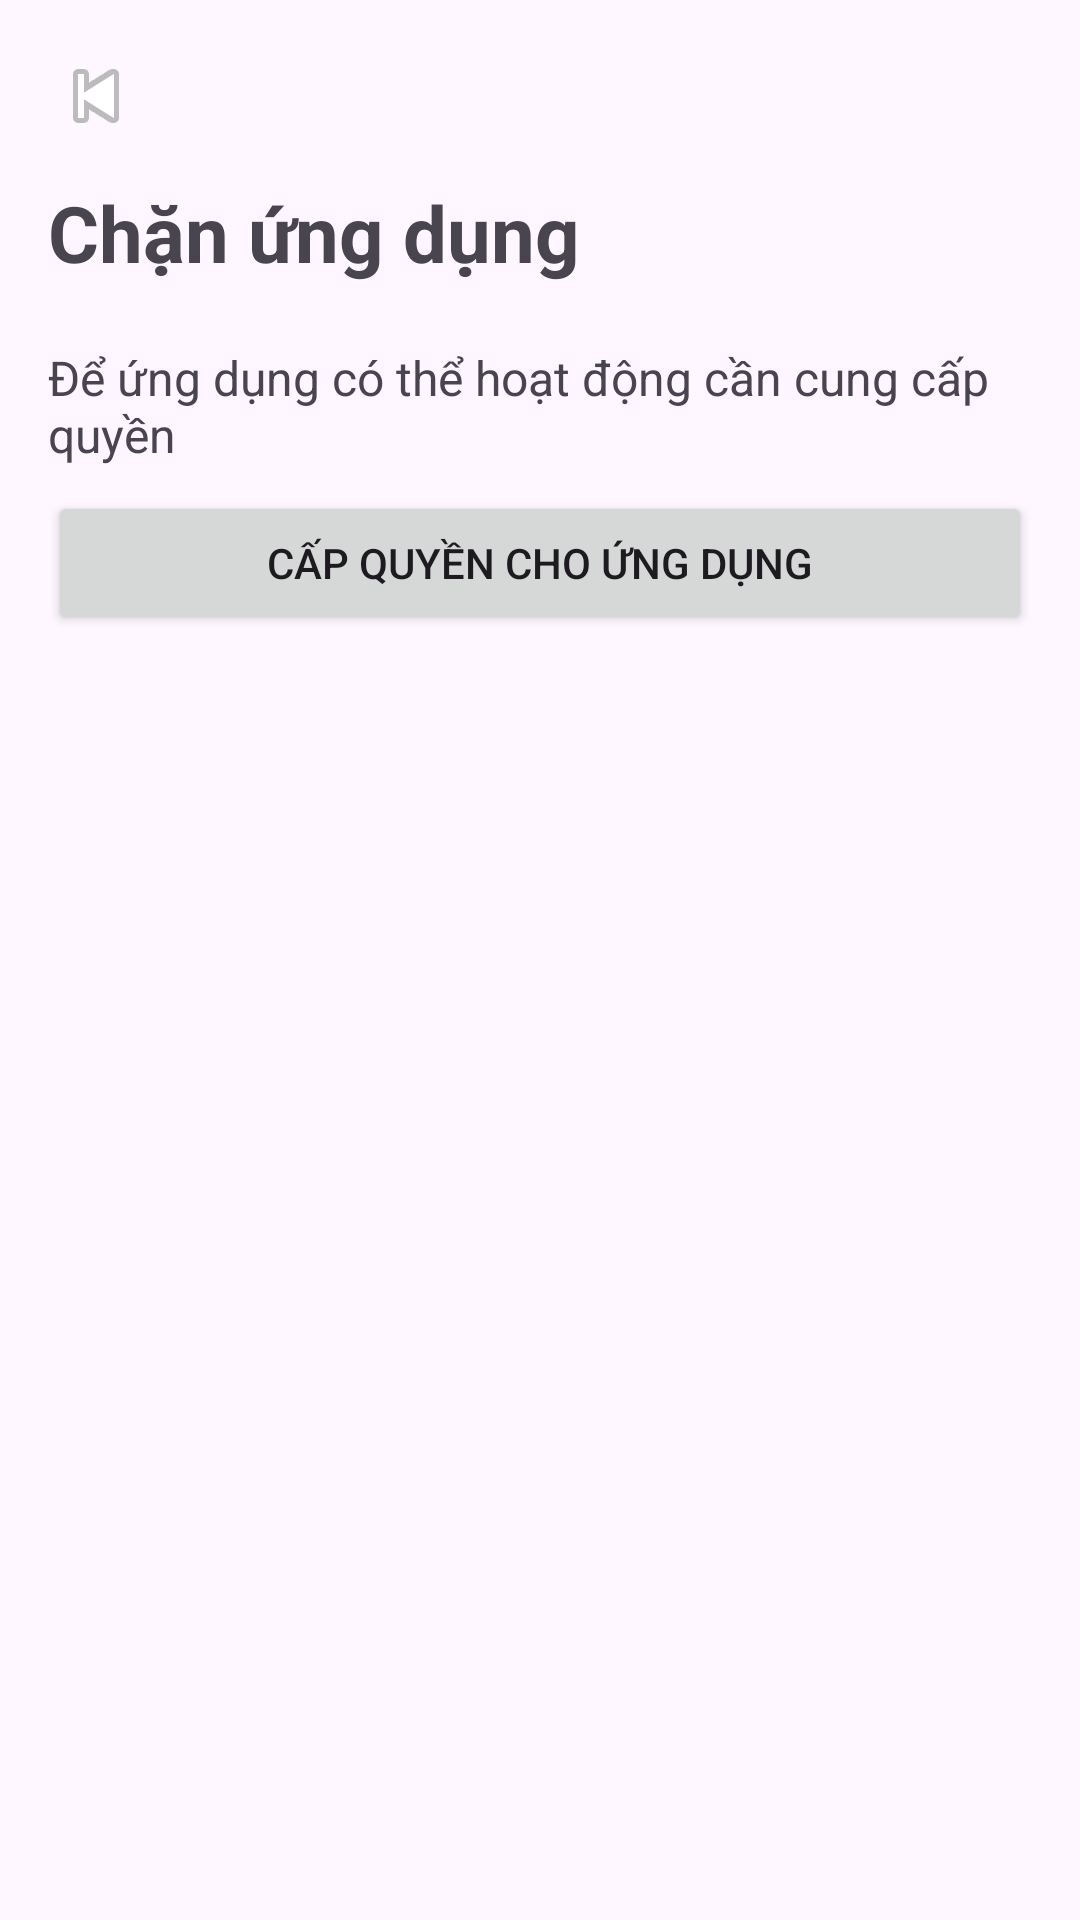

Icon bounding boxes for this 1080 × 1920 phone screenshot, format (x1, y1, x2, y2):
Back: (73, 69, 119, 123)
